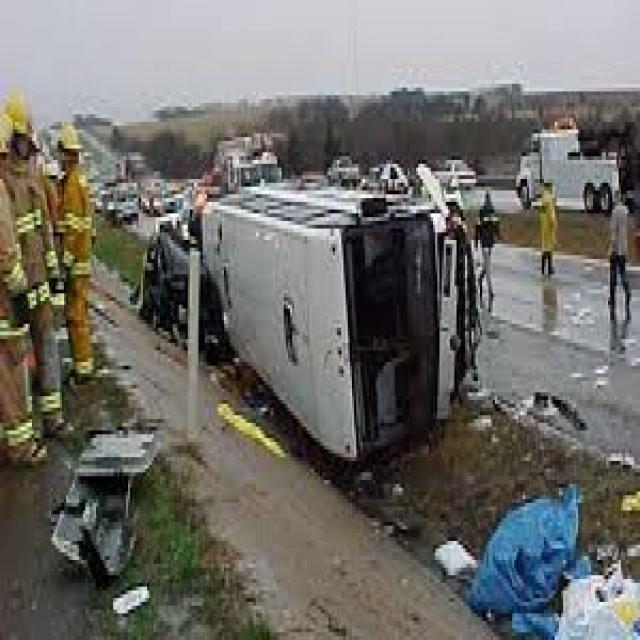accident: (141, 168, 516, 487)
